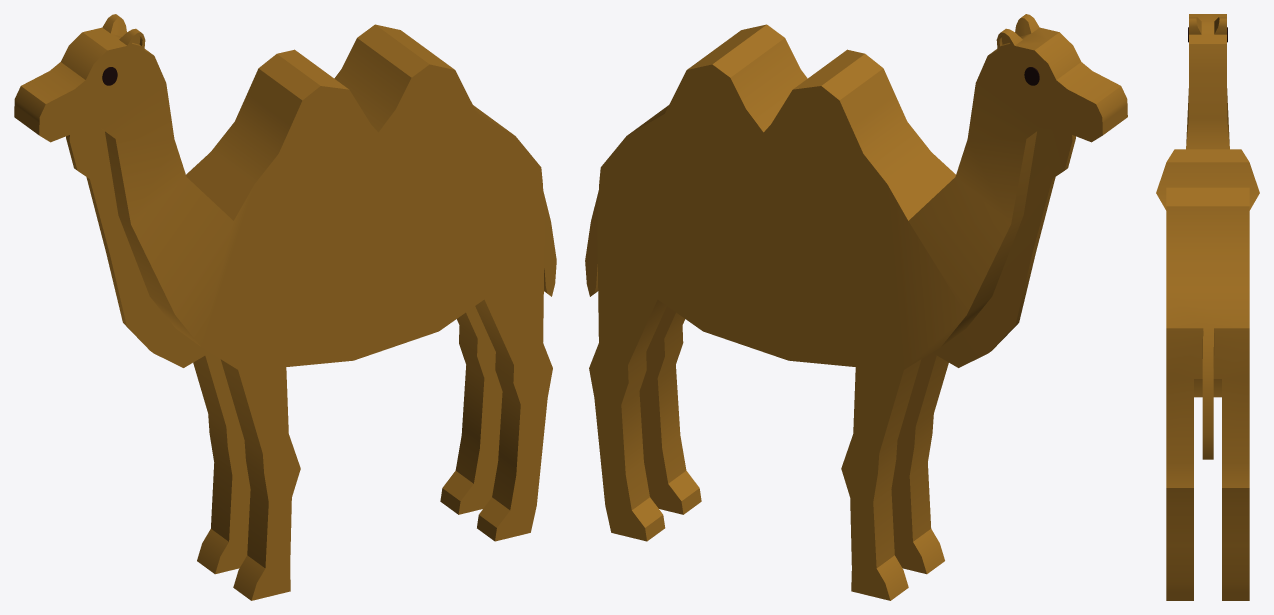
Rendered from Two_Hump_Camel.gltf.
The picture shows the model from 3 angles, left to right: view 1: azimuth 30°, elevation 25°; view 2: azimuth 150°, elevation 25°; view 3: azimuth 270°, elevation 25°; orthographic projection. The views are drawn at different scales.
Parts seen in each view (by area): view 1: Plane.127; view 2: Plane.127; view 3: Plane.127.
Boxes of the visible parts, bbox=[...] form: Plane.127: bbox=[14, 14, 556, 600]; Plane.127: bbox=[585, 14, 1127, 600]; Plane.127: bbox=[1156, 14, 1259, 600].
Size of the model in its own units: 2 by 2.11 by 0.4495.
